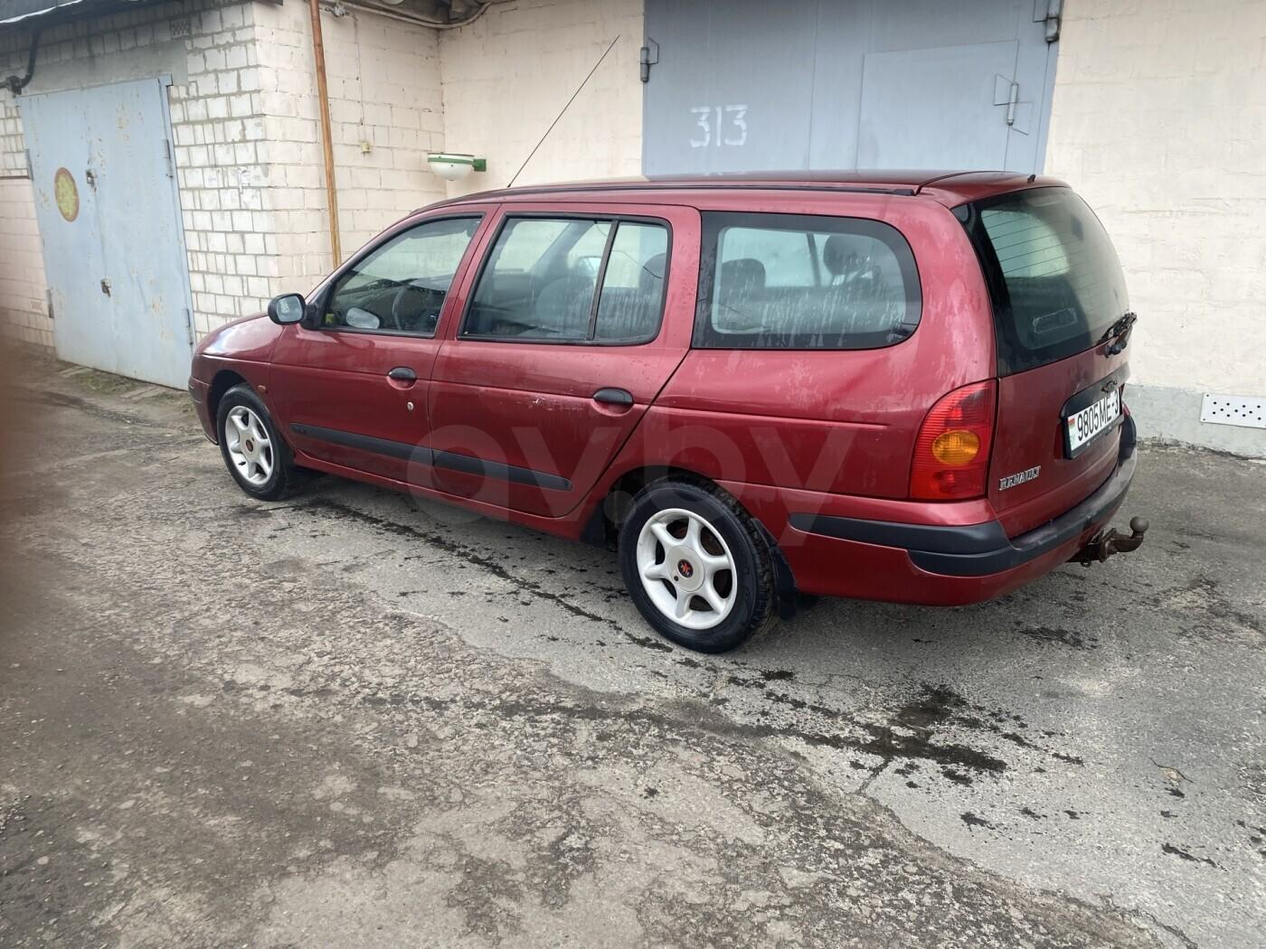Megane_1999-2003: (178, 164, 1152, 655)
